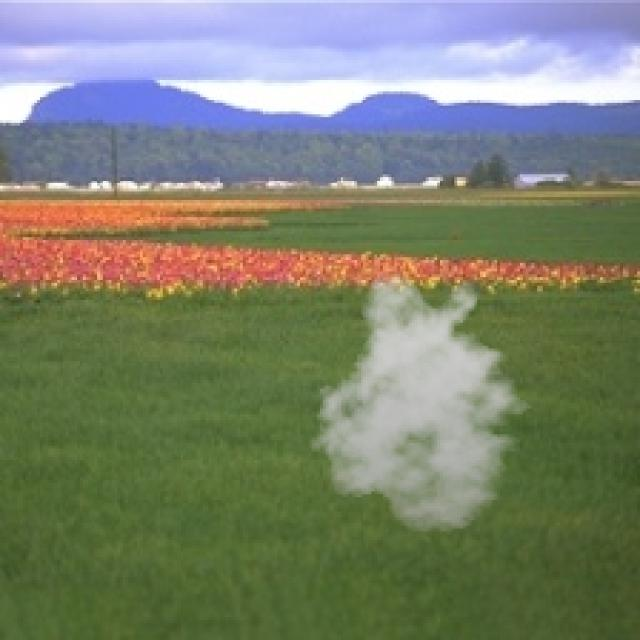smoke: (303, 272, 543, 534)
